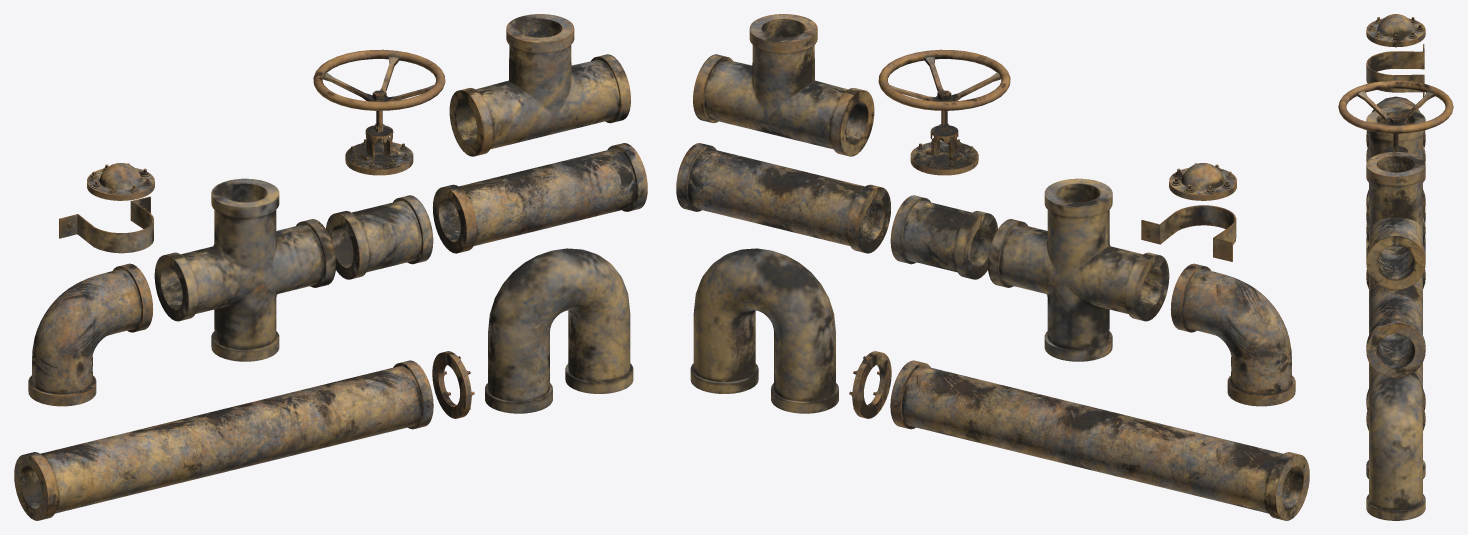
Rendered from old_pipes_bundle__modular_industrial_pack.glb.
3 renders of one model, left to right at view 1: azimuth 30°, elevation 25°; view 2: azimuth 150°, elevation 25°; view 3: azimuth 270°, elevation 25°, orthographic. The views are drawn at different scales.
Parts seen in each view (by area): view 1: Pipe_6, Pipe_2, Cylinder, Pipe_5, Pipe_4, Pipe_1, Pipe_3, obturator, Cylinder.002, Cylinder.003, Cylinder.001, Cylinder.005; view 2: Pipe_6, Pipe_2, Cylinder, Pipe_5, Pipe_4, Pipe_1, Pipe_3, obturator, Cylinder.002, Cylinder.003, Cylinder.001, Cylinder.005; view 3: Cylinder, Pipe_5, Pipe_4, obturator, Pipe_2, Cylinder.002, Cylinder.003, Pipe_1, Pipe_6.
Part boxes in pixels (<box>): Pipe_6: <box>14,360,433,520</box>; Pipe_2: <box>154,178,335,361</box>; Cylinder: <box>485,248,633,413</box>; Pipe_5: <box>449,14,630,156</box>; Pipe_4: <box>433,143,647,253</box>; Pipe_1: <box>28,263,153,406</box>; Pipe_3: <box>326,195,433,279</box>; obturator: <box>313,49,445,143</box>; Cylinder.002: <box>59,196,153,253</box>; Cylinder.003: <box>87,163,154,200</box>; Cylinder.001: <box>345,136,413,175</box>; Cylinder.005: <box>432,351,474,418</box>; Pipe_6: <box>890,360,1309,520</box>; Pipe_2: <box>988,178,1169,361</box>; Cylinder: <box>690,248,838,413</box>; Pipe_5: <box>693,14,874,156</box>; Pipe_4: <box>676,143,890,253</box>; Pipe_1: <box>1170,263,1295,406</box>; Pipe_3: <box>890,195,997,279</box>; obturator: <box>878,49,1010,143</box>; Cylinder.002: <box>1141,205,1236,261</box>; Cylinder.003: <box>1169,163,1236,200</box>; Cylinder.001: <box>910,137,978,175</box>; Cylinder.005: <box>849,351,891,418</box>; Cylinder: <box>1366,372,1425,520</box>; Pipe_5: <box>1366,152,1425,289</box>; Pipe_4: <box>1366,269,1425,377</box>; obturator: <box>1338,80,1453,152</box>; Pipe_2: <box>1366,107,1425,253</box>; Cylinder.002: <box>1366,44,1424,97</box>; Cylinder.003: <box>1366,14,1425,47</box>; Pipe_1: <box>1366,96,1425,147</box>; Pipe_6: <box>1366,238,1425,410</box>.
Size of the model in its own units: 2.86 by 1.67 by 0.5458.
Materials: 1 (1 with a texture image).
